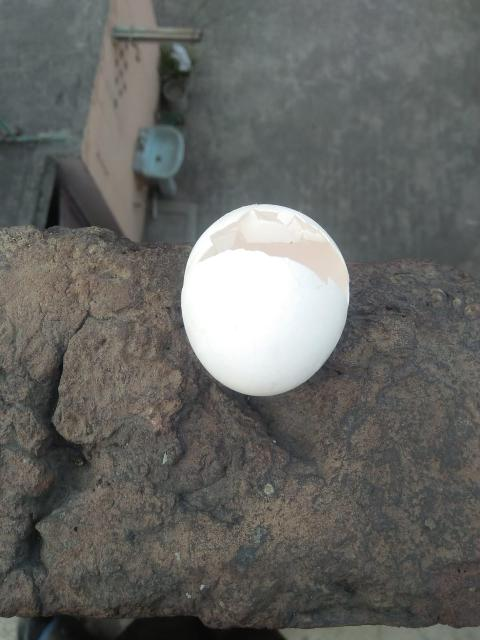Roto: (180, 202, 350, 397)
